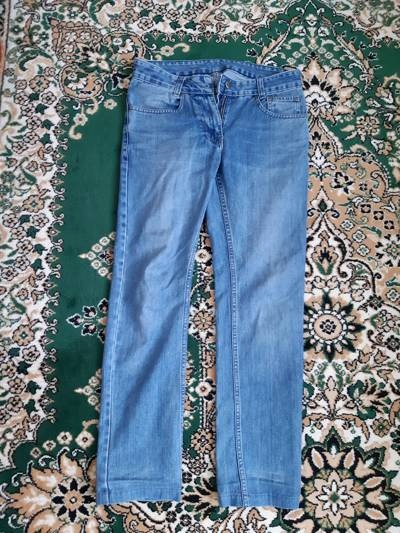Pants: (81, 42, 345, 518)
